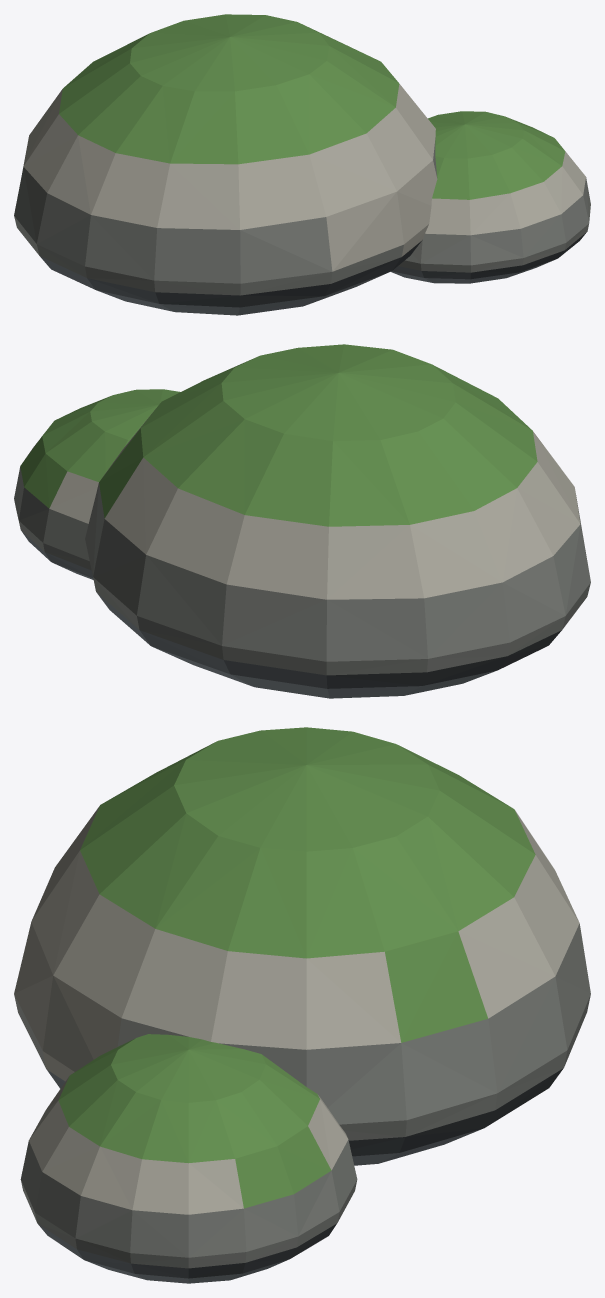
File: RockClusterFar.obj
3 renders of one model, top to bottom at view 1: azimuth 30°, elevation 25°; view 2: azimuth 150°, elevation 25°; view 3: azimuth 270°, elevation 25°, orthographic. The views are drawn at different scales.
Bounding box in the file's own units: 4.9 × 2.28 × 3.43.
